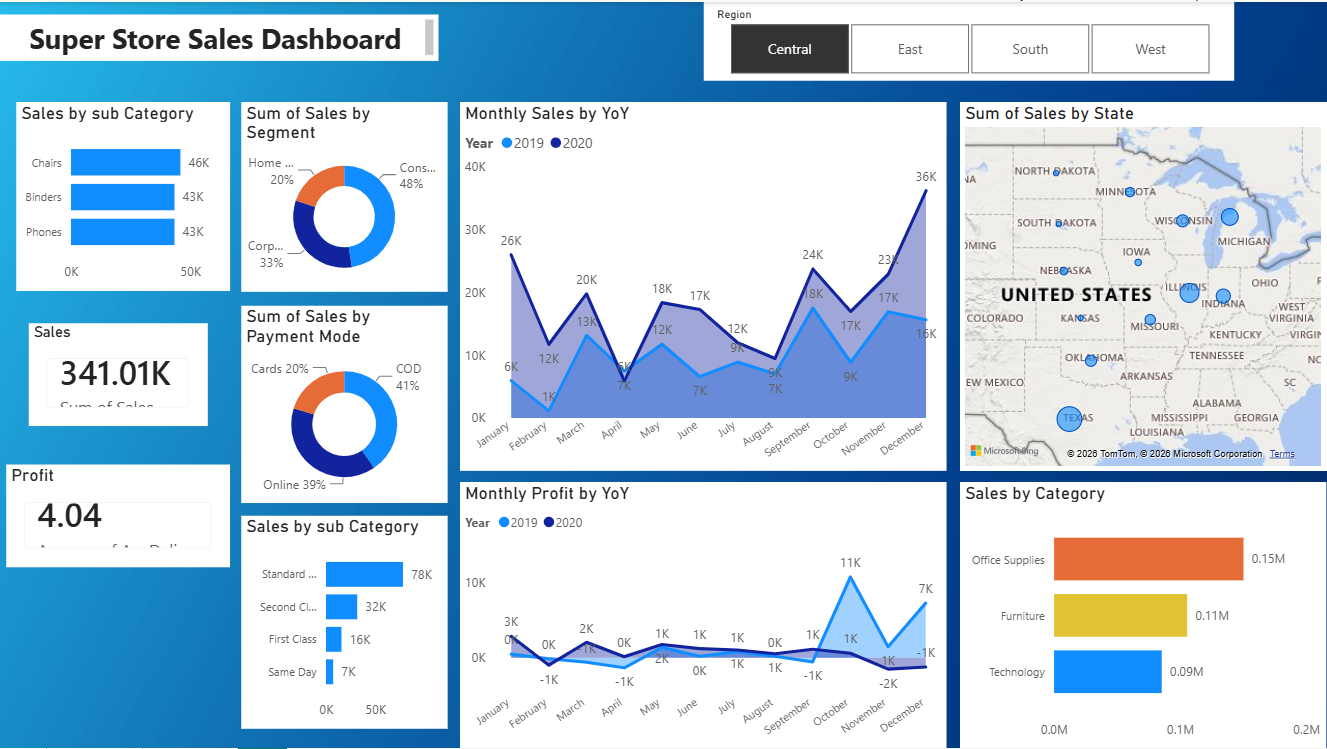

The dashboard page shown, as its layout file describes it:
{"tool":"powerbi","page":{"name":"Page 1","canvas":[1280,720],"ordinal":0},"visuals":[{"type":"textbox","box":[0,12.1,423.5,44.6],"z":0},{"type":"map","fields":{"Category":["SuperStore_Sales_Dataset.State"],"Size":["Sum(SuperStore_Sales_Dataset.Sales)"]},"box":[926.5,96.5,353.5,355.9],"z":1000},{"type":"clusteredBarChart","title":" Sales by Category","fields":{"Category":["SuperStore_Sales_Dataset.Category"],"Y":["Sum(SuperStore_Sales_Dataset.Sales)"]},"box":[926.5,463.3,353.5,257],"z":2000},{"type":"areaChart","title":" Monthly Sales by  YoY","fields":{"Category":["SuperStore_Sales_Dataset.Order Date.Variation.Date Hierarchy.Month"],"Y":["Sum(SuperStore_Sales_Dataset.Sales)"],"Series":["SuperStore_Sales_Dataset.Order Date.Variation.Date Hierarchy.Year"]},"box":[443.9,96.6,469.6,355.8],"z":3000},{"type":"areaChart","title":" Monthly Profit by YoY","fields":{"Category":["SuperStore_Sales_Dataset.Order Date.Variation.Date Hierarchy.Month"],"Series":["SuperStore_Sales_Dataset.Order Date.Variation.Date Hierarchy.Year"],"Y":["Sum(SuperStore_Sales_Dataset.Profit)"]},"box":[444,463.3,469.3,257],"z":4000},{"type":"slicer","fields":{"Values":["SuperStore_Sales_Dataset.Region"]},"box":[678.7,0,512.4,75.8],"z":5000},{"type":"donutChart","fields":{"Category":["SuperStore_Sales_Dataset.Segment"],"Y":["Sum(SuperStore_Sales_Dataset.Sales)"]},"box":[232.8,96.5,199.1,183.4],"z":6000},{"type":"donutChart","fields":{"Category":["SuperStore_Sales_Dataset.Payment Mode"],"Y":["Sum(SuperStore_Sales_Dataset.Sales)"]},"box":[232.8,293.2,199.1,190.6],"z":7000},{"type":"clusteredBarChart","title":" Sales by sub Category","fields":{"Y":["Sum(SuperStore_Sales_Dataset.Sales)"],"Category":["SuperStore_Sales_Dataset.Ship Mode"]},"box":[232.3,495.2,199.3,205.4],"z":8000},{"type":"clusteredBarChart","title":" Sales by sub Category","fields":{"Y":["Sum(SuperStore_Sales_Dataset.Sales)"],"Category":["SuperStore_Sales_Dataset.Sub-Category"]},"box":[15.7,96.5,206.3,182.2],"z":9000},{"type":"cardVisual","title":"Sales","fields":{"Data":["Sum(SuperStore_Sales_Dataset.Sales)","Sum(SuperStore_Sales_Dataset.Sales)"]},"box":[27.7,310.1,172.5,98.9],"z":10000},{"type":"cardVisual","title":"Profit","fields":{"Data":["Avg(SuperStore_Sales_Dataset.AvgDelivery)"]},"box":[6,446.4,216,98.9],"z":11000}]}

Visuals, with their boxes in screenshot pixels (x1, y1, x2, y2), scaled from the page's 1280x720 canvas onto the 1327x749 screenshot:
textbox: crop(0, 13, 439, 59)
map - SuperStore_Sales_Dataset.State x Sum(SuperStore_Sales_Dataset.Sales): crop(961, 100, 1326, 471)
" Sales by Category" clusteredBarChart: crop(961, 482, 1326, 748)
" Monthly Sales by  YoY" areaChart: crop(460, 100, 947, 471)
" Monthly Profit by YoY" areaChart: crop(460, 482, 947, 748)
slicer - SuperStore_Sales_Dataset.Region: crop(704, 0, 1235, 79)
donutChart - SuperStore_Sales_Dataset.Segment x Sum(SuperStore_Sales_Dataset.Sales): crop(241, 100, 448, 291)
donutChart - SuperStore_Sales_Dataset.Payment Mode x Sum(SuperStore_Sales_Dataset.Sales): crop(241, 305, 448, 503)
" Sales by sub Category" clusteredBarChart: crop(241, 515, 447, 729)
" Sales by sub Category" clusteredBarChart: crop(16, 100, 230, 290)
"Sales" cardVisual: crop(29, 323, 208, 425)
"Profit" cardVisual: crop(6, 464, 230, 567)
